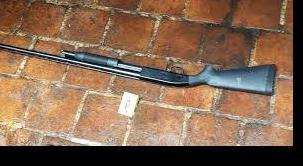larga: (0, 43, 278, 96)
